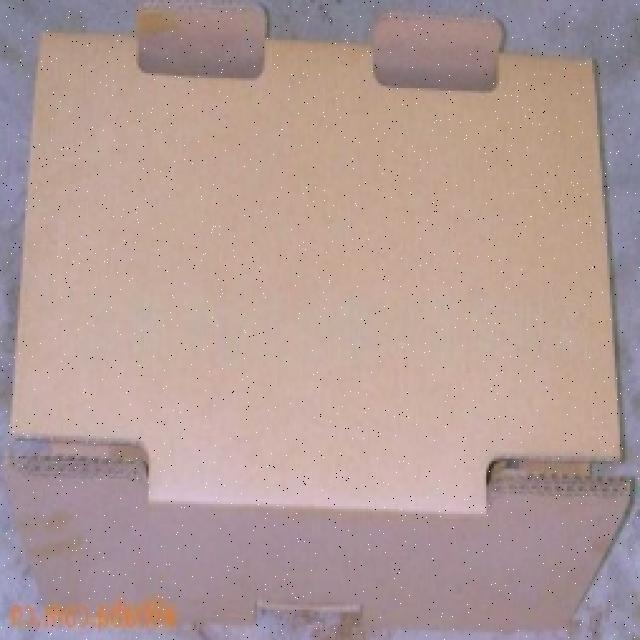box: (19, 0, 626, 631)
